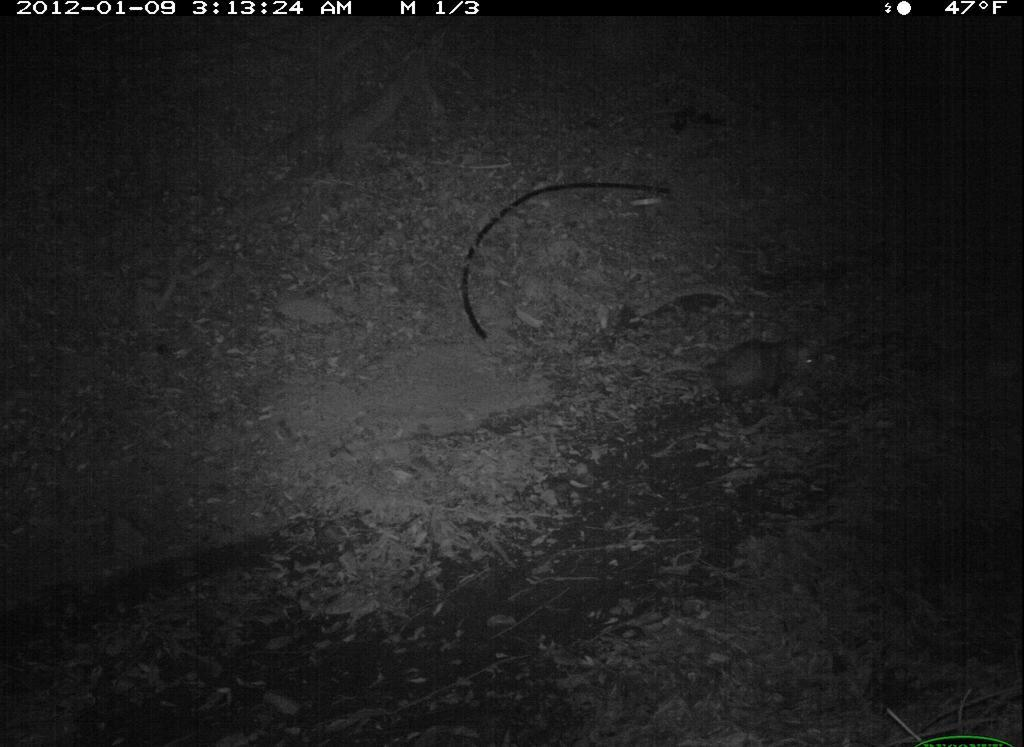opossum: (649, 301, 849, 434)
